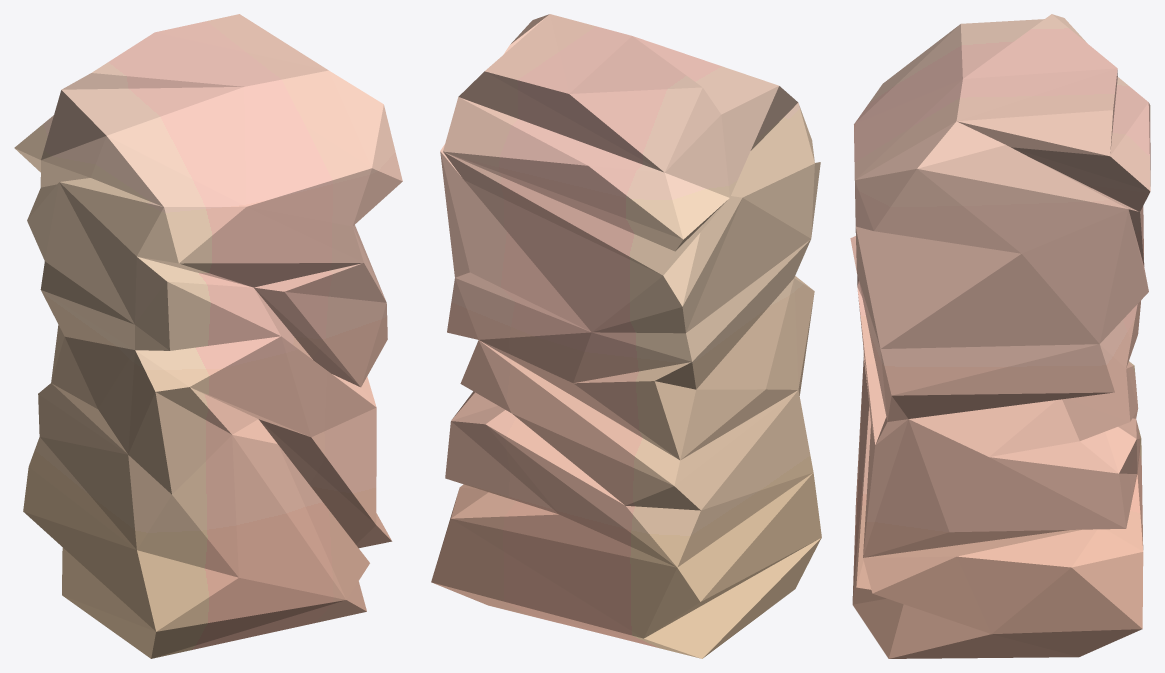
The model's file is DC_PillarRectangle1.fbx.
3 renders of one model, left to right at view 1: azimuth 30°, elevation 25°; view 2: azimuth 150°, elevation 25°; view 3: azimuth 270°, elevation 25°, orthographic. The views are drawn at different scales.
Visible parts, largest first — view 1: PillarRectangle1; view 2: PillarRectangle1; view 3: PillarRectangle1.
Part boxes in pixels (x1=…): PillarRectangle1: x1=14, y1=14, x2=402, y2=658; PillarRectangle1: x1=431, y1=14, x2=821, y2=658; PillarRectangle1: x1=850, y1=14, x2=1150, y2=658.
Bounding box in the file's own units: 1.87 × 3.57 × 1.77.
1 material, 1 textured.
